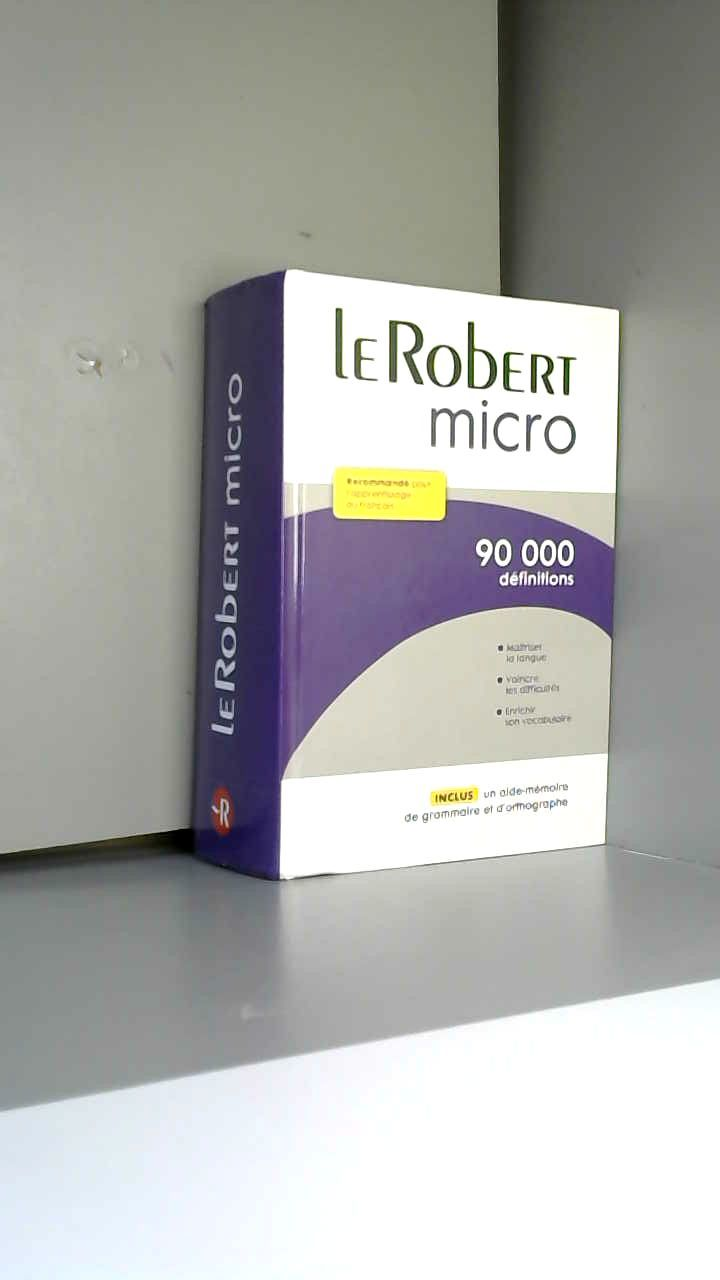book: (153, 239, 658, 934)
